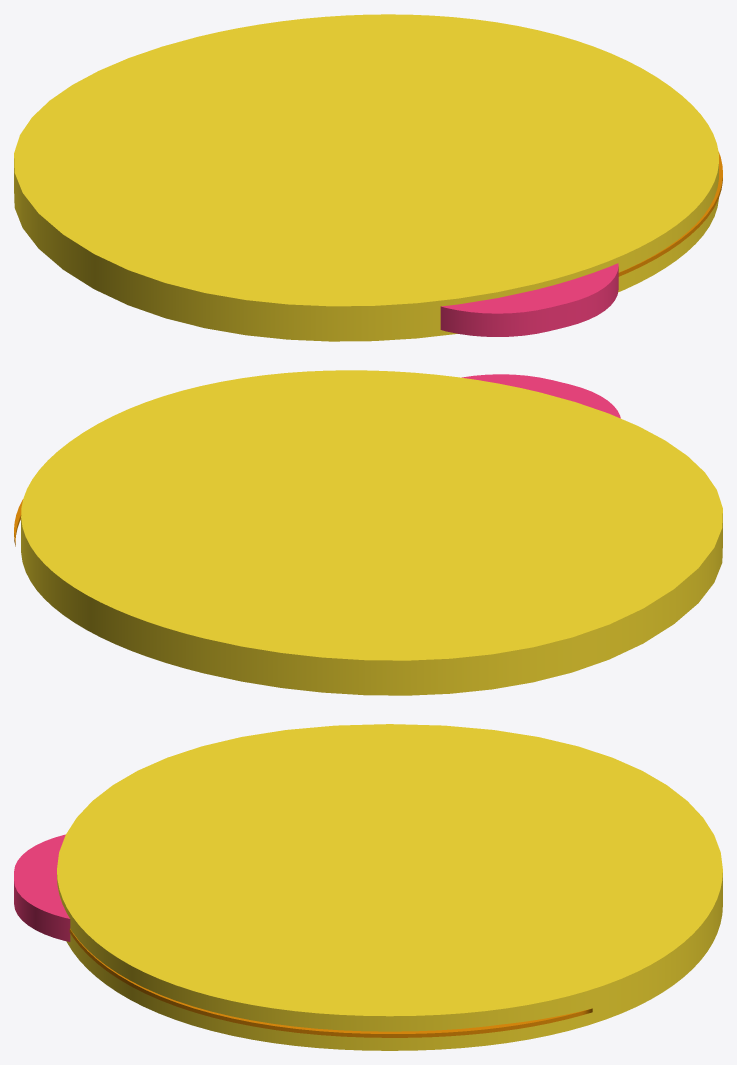
Rendered from emoji_u1f61c.glb.
3 views of the same model, one above another, from view 1: azimuth 30°, elevation 25°; view 2: azimuth 150°, elevation 25°; view 3: azimuth 270°, elevation 25° (orthographic).
Parts seen in each view (by area): view 1: emoji_u1f61c; view 2: emoji_u1f61c; view 3: emoji_u1f61c.
Part boxes in pixels (bbox=[...]): emoji_u1f61c: bbox=[14, 14, 722, 341]; emoji_u1f61c: bbox=[14, 370, 722, 695]; emoji_u1f61c: bbox=[14, 724, 722, 1050].
Bounding box in the file's own units: 0.0328 × 0.0018 × 0.0333.
